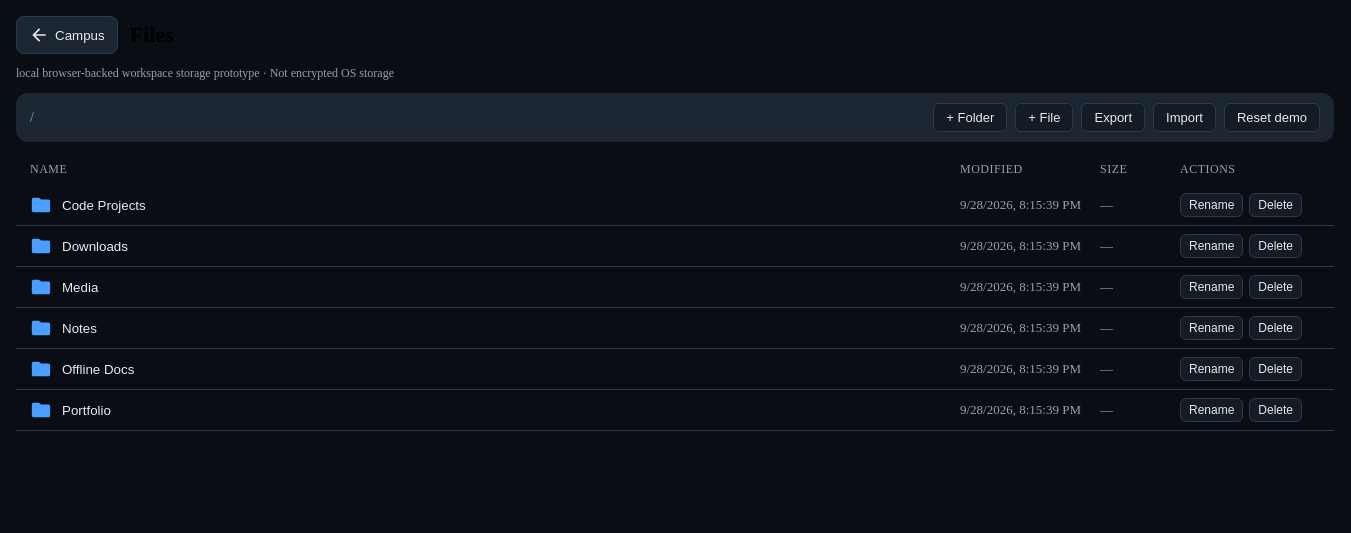
Test: FileManager v1 › creates a folder
Click the button with test id "create-folder-btn": (970, 118) [933,103,1007,132]
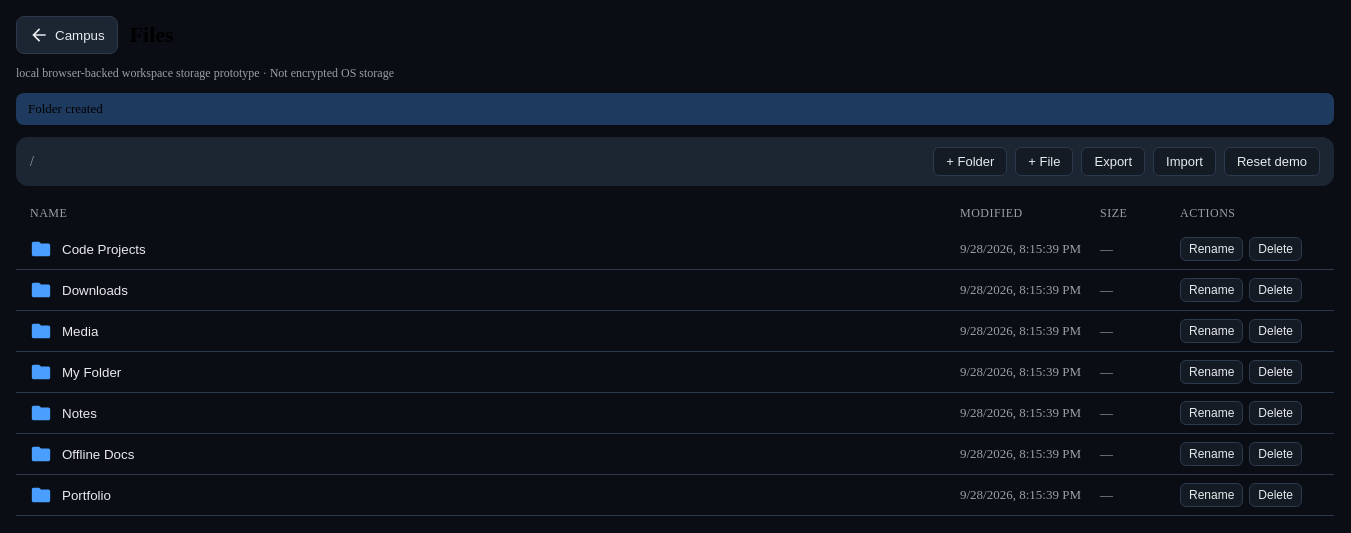
Expected: the element with test id "entry-My Folder" is shown, [16,352,1334,393]
